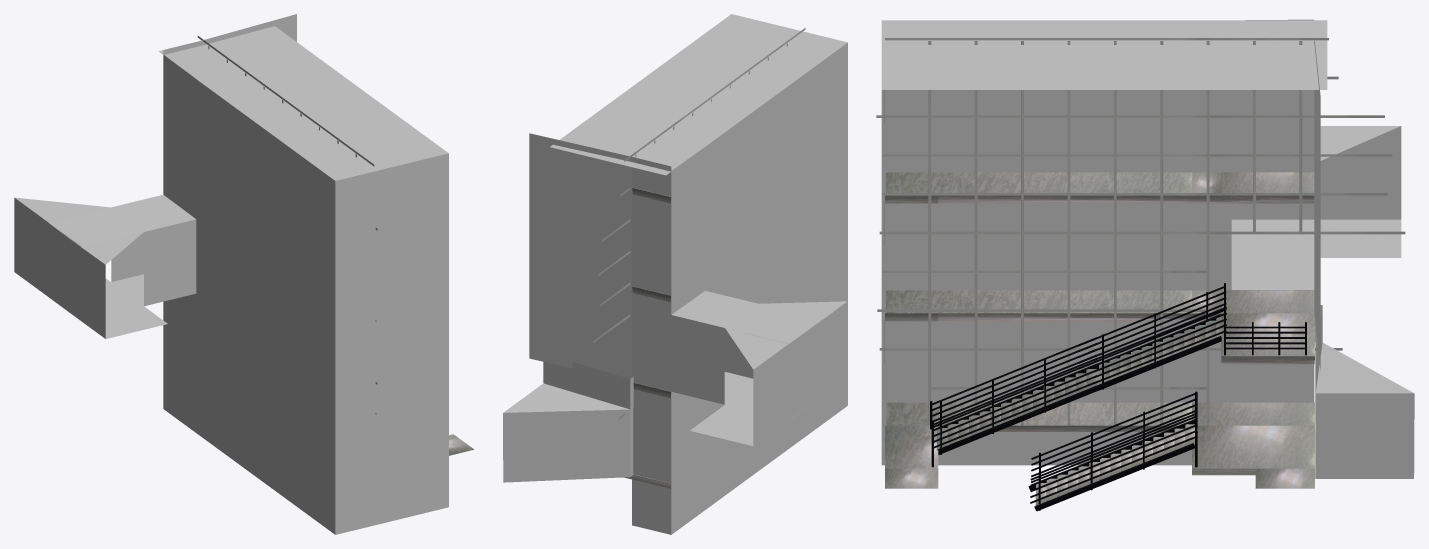
Rendered from BackWall.obj.
The picture shows the model from 3 angles, left to right: view 1: azimuth 30°, elevation 25°; view 2: azimuth 150°, elevation 25°; view 3: azimuth 270°, elevation 25°; orthographic projection. The views are drawn at different scales.
Parts seen in each view (by area): view 1: BackWall, GlassFrame; view 2: BackWall, StairsAndFloors, GlassFrame; view 3: BackWall, StairsAndFloors, GlassFrame, StairRailings.
Part boxes in pixels (x1,y1,x2,y2): BackWall: [14, 14, 448, 534]; GlassFrame: [197, 36, 377, 414]; BackWall: [503, 14, 847, 534]; StairsAndFloors: [624, 187, 671, 488]; GlassFrame: [593, 27, 805, 419]; BackWall: [881, 19, 1414, 478]; StairsAndFloors: [884, 90, 1314, 505]; GlassFrame: [876, 38, 1405, 425]; StairRailings: [930, 283, 1306, 511].
Bounding box in the file's own units: 37.28 × 50.38 × 54.12.
